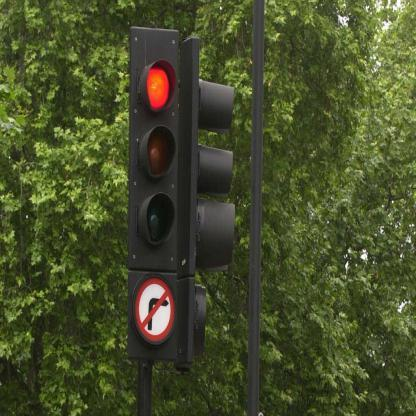red_light: (128, 26, 179, 270)
